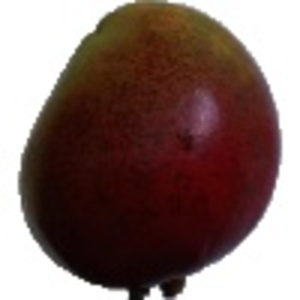manga: (19, 1, 283, 300)
